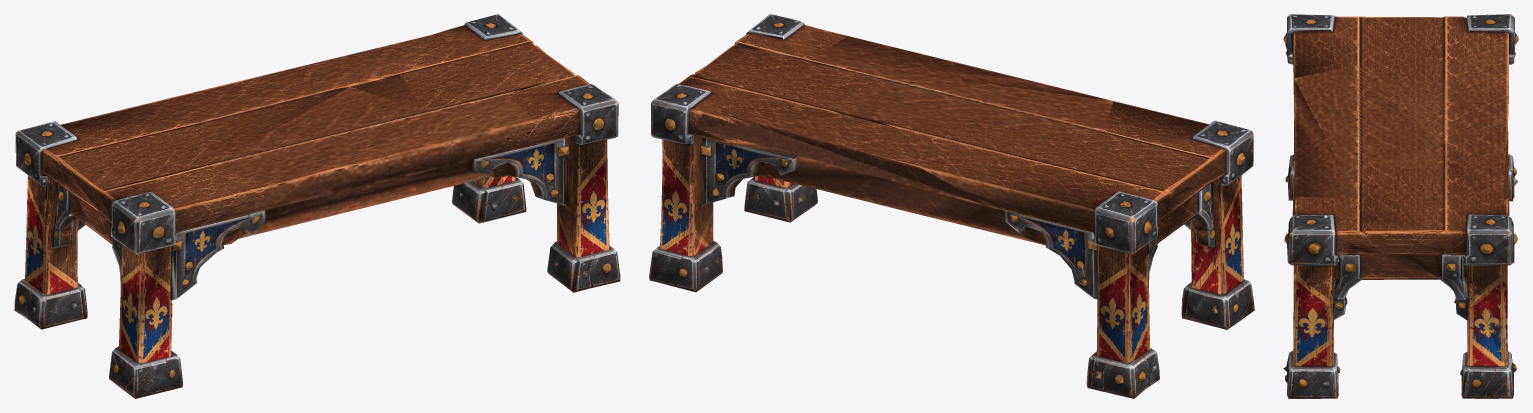
File: side_table.glb
The picture shows the model from 3 angles, left to right: view 1: azimuth 30°, elevation 25°; view 2: azimuth 150°, elevation 25°; view 3: azimuth 270°, elevation 25°; orthographic projection. The views are drawn at different scales.
Bounding box in the file's own units: 2 × 0.7164 × 0.8985.
Materials: 1 (1 with a texture image).
